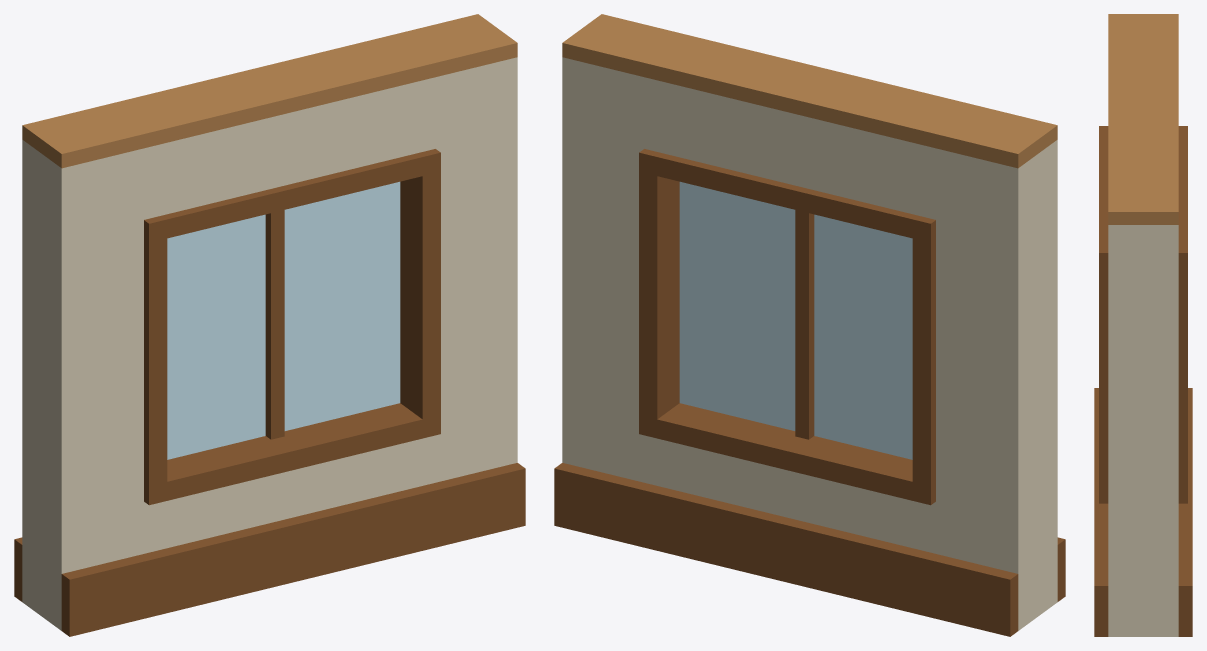
File: wall-window.glb
3 renders of one model, left to right at view 1: azimuth 30°, elevation 25°; view 2: azimuth 150°, elevation 25°; view 3: azimuth 270°, elevation 25°, orthographic. The views are drawn at different scales.
Parts seen in each view (by area): view 1: wall-window; view 2: wall-window; view 3: wall-window.
Boxes of the visible parts, x1,y1,x2,y2 form: wall-window: [14, 14, 525, 636]; wall-window: [554, 14, 1065, 636]; wall-window: [1094, 14, 1192, 636].
Size of the model in its own units: 1 by 1 by 0.21.
1 material, 1 textured.
